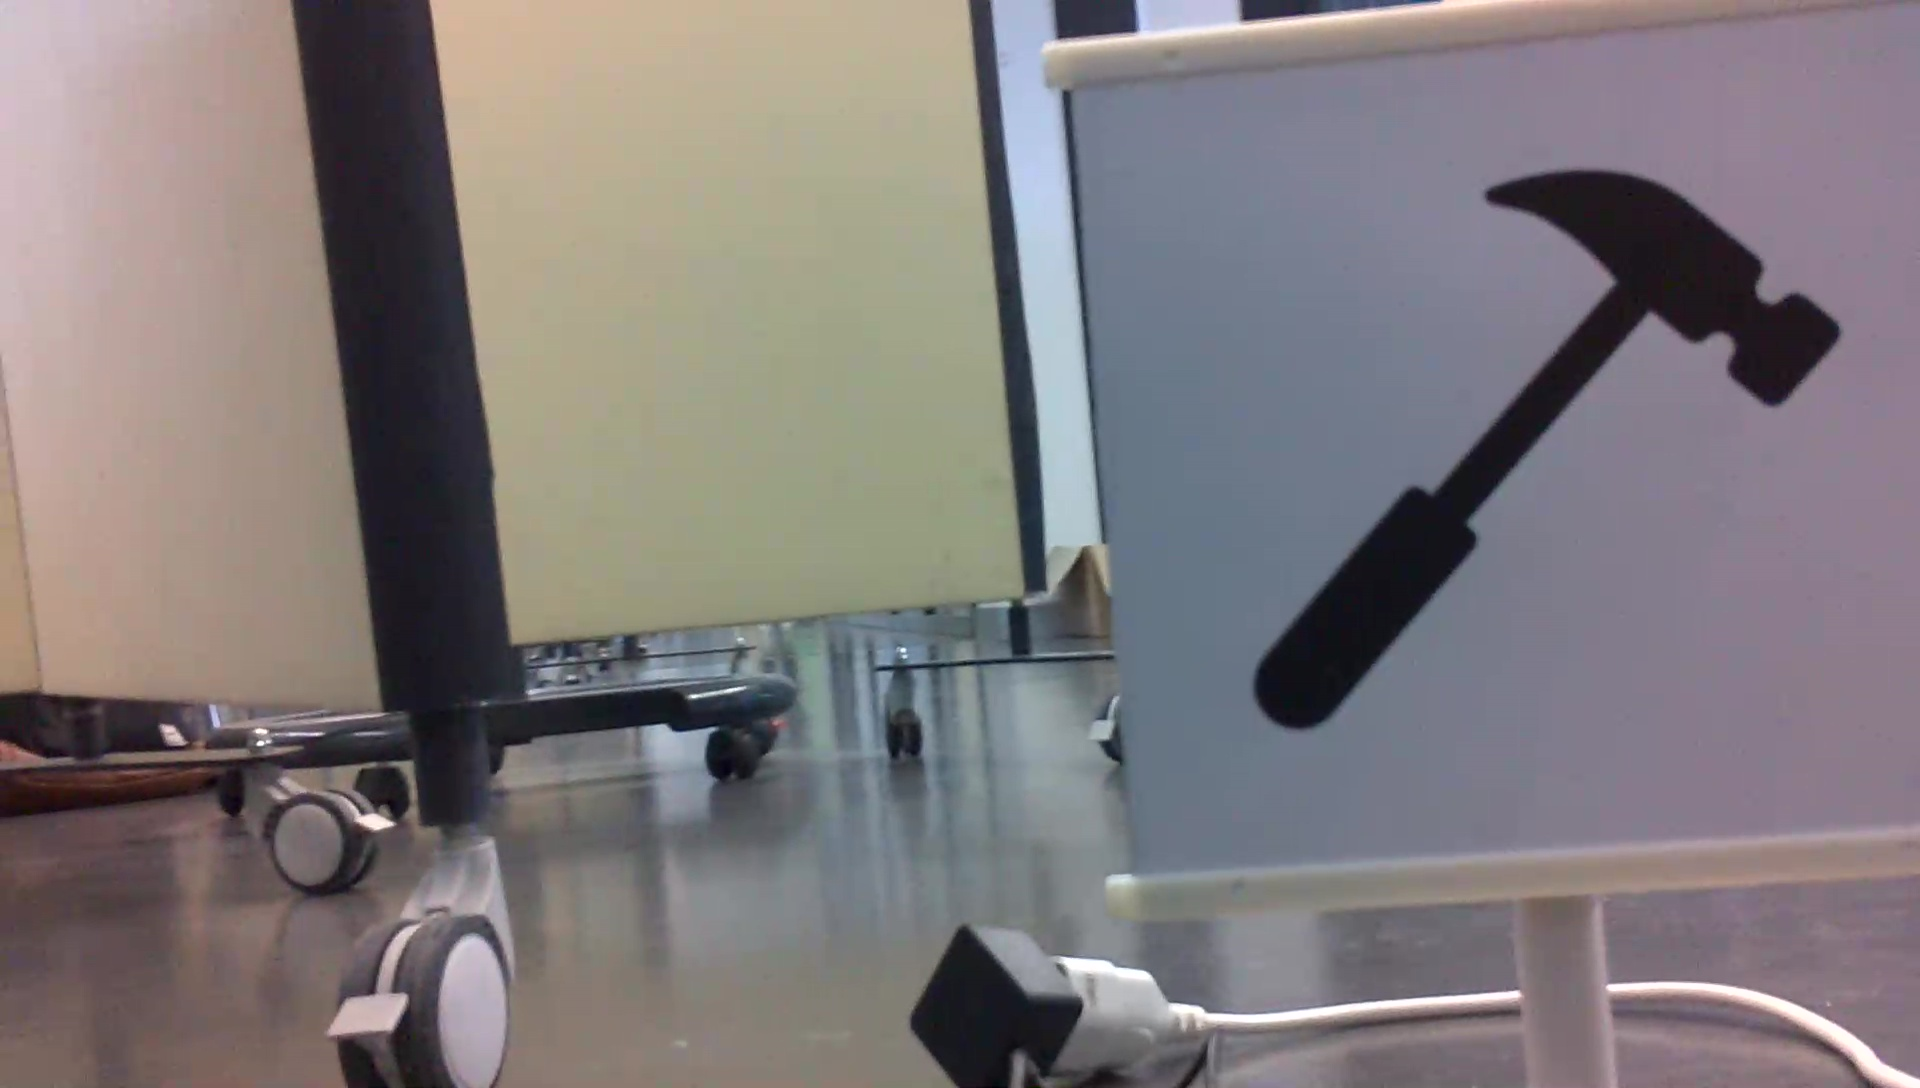hammer: (1240, 162, 1851, 737)
